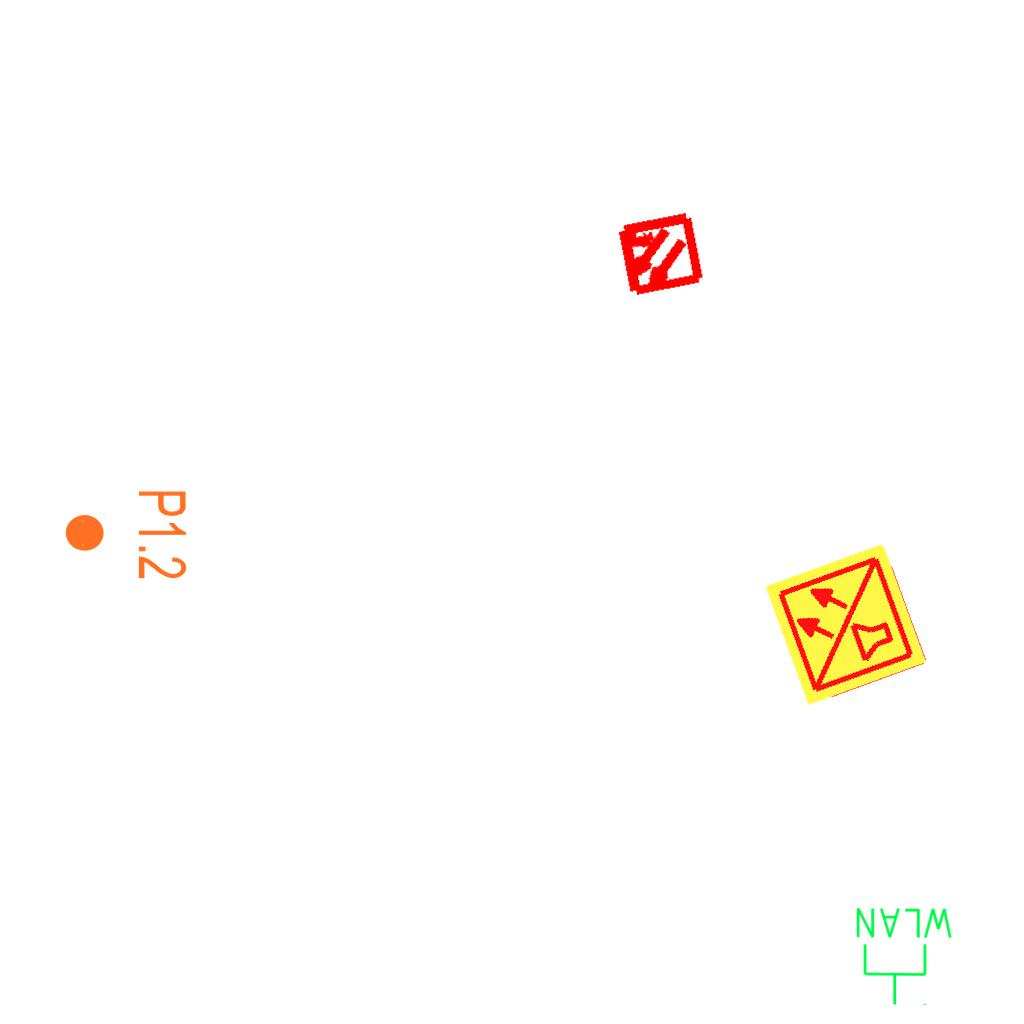Downlight_LED_Einbauleuchten_Flur: (62, 488, 190, 581)
OKW_Multisensormelder_(Kombination_optischer_Rauch-Kahlenmonoxid_Waerme-Melder): (761, 539, 931, 709)
OT_Multisensormelder_(Kombination_RMO_WMD): (592, 188, 725, 321)
WLAN: (852, 904, 957, 1008)
